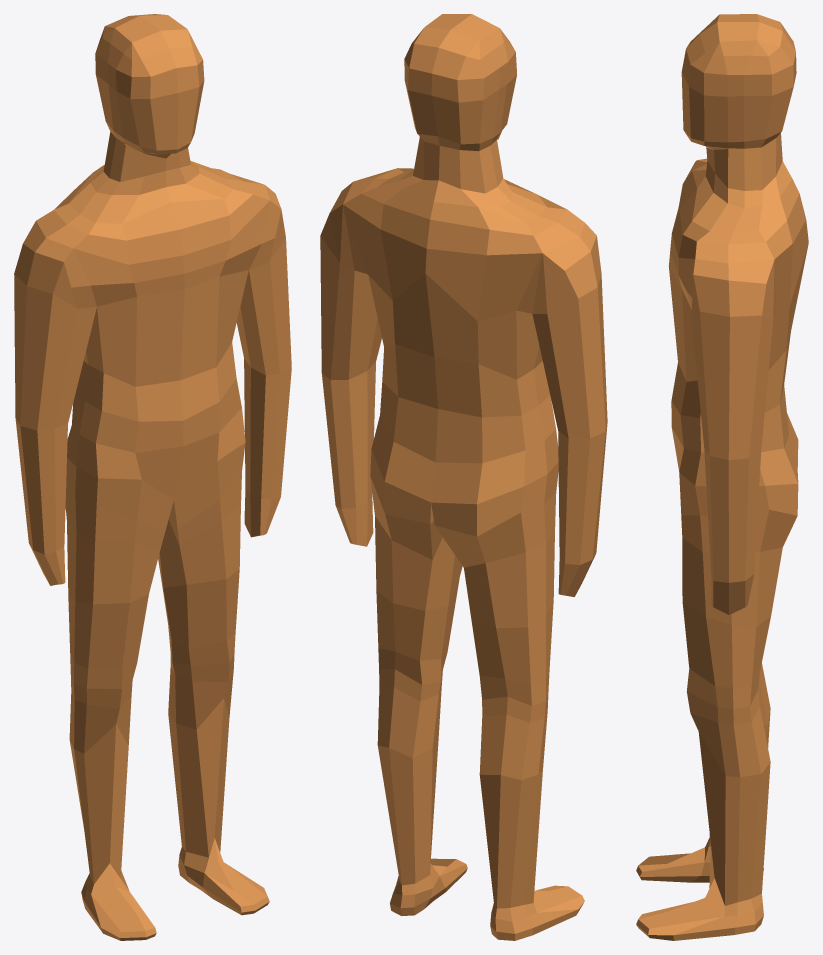
File: dummy.glb
3 views of the same model, side by side, from view 1: azimuth 30°, elevation 25°; view 2: azimuth 150°, elevation 25°; view 3: azimuth 270°, elevation 25° (orthographic). The views are drawn at different scales.
Visible parts, largest first — view 1: Object_2; view 2: Object_2; view 3: Object_2.
Boxes of the visible parts, x1,y1,x2,y2 form: Object_2: (14, 14, 291, 940); Object_2: (320, 14, 607, 940); Object_2: (636, 14, 808, 940).
Size of the model in its own units: 2.85 by 8.76 by 1.56.
